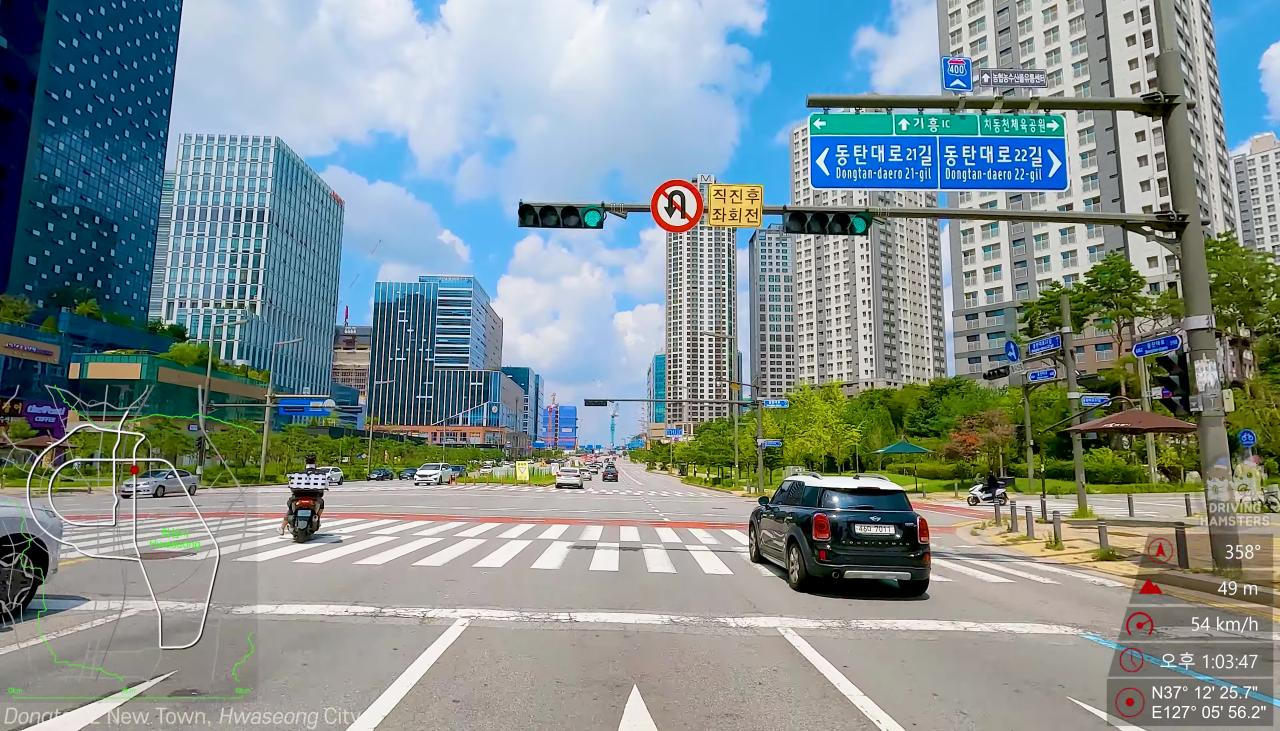Green Light: (582, 205, 602, 229), (851, 215, 869, 235)
